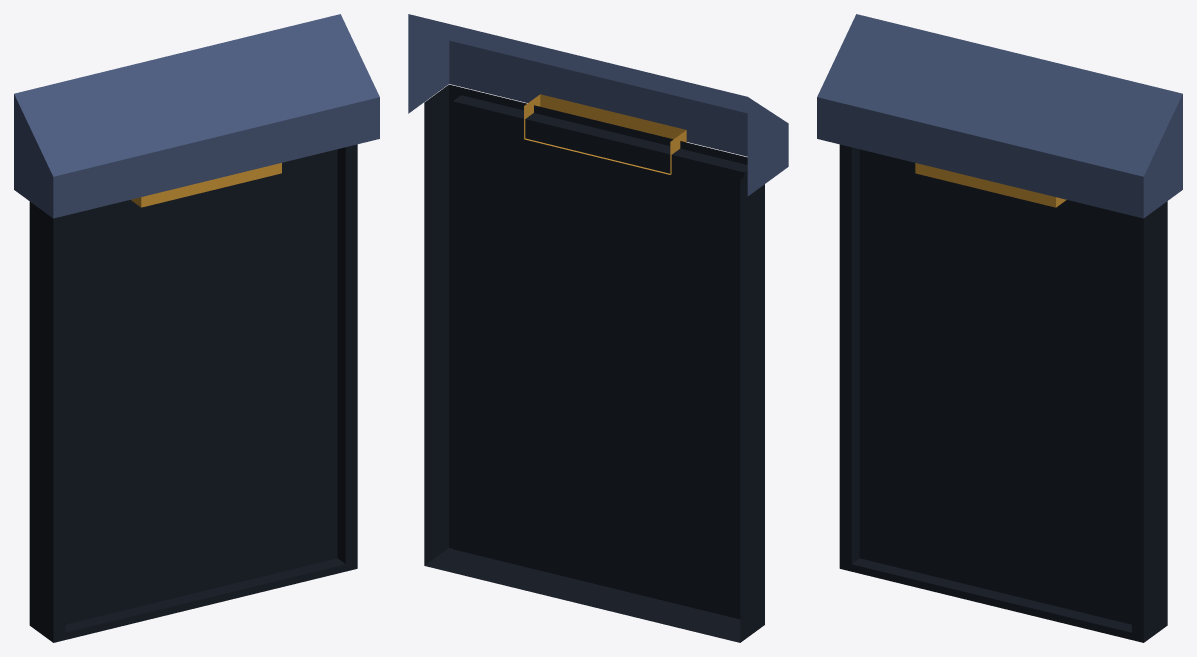
File: posterplane.FBX
3 views of the same model, side by side, from view 1: azimuth 30°, elevation 25°; view 2: azimuth 150°, elevation 25°; view 3: azimuth 330°, elevation 25° (orthographic). The views are drawn at different scales.
Visible parts, largest first — view 1: posterplane; view 2: posterplane; view 3: posterplane.
Part boxes in pixels (box(x1,y1,x2,y2)): posterplane: box(14, 14, 379, 642); posterplane: box(408, 14, 788, 642); posterplane: box(817, 14, 1182, 642).
Bounding box in the file's own units: 5.54 × 8.61 × 1.15.
